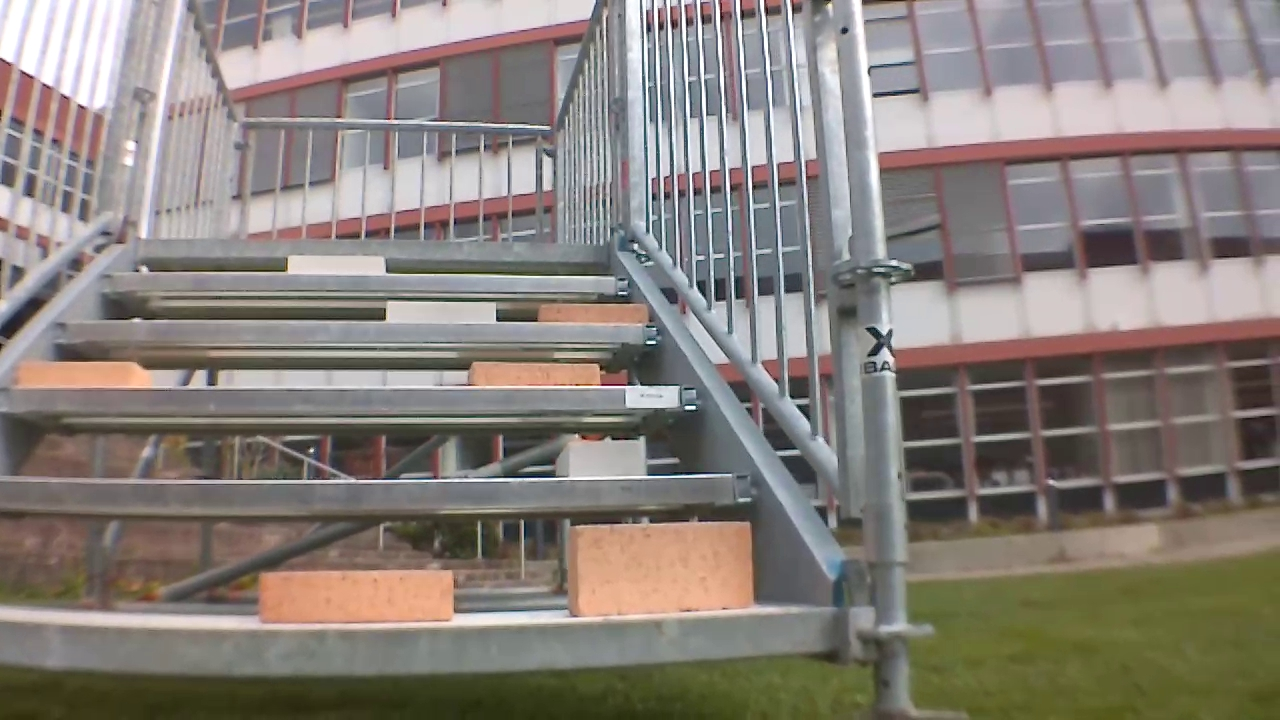brick: (560, 516, 761, 619), (250, 565, 460, 624), (551, 432, 653, 480), (9, 356, 147, 391), (467, 360, 609, 387), (526, 304, 657, 329), (284, 249, 390, 279), (375, 303, 503, 324)
edge: (0, 601, 851, 665), (0, 473, 759, 511), (0, 382, 711, 421), (50, 312, 666, 346), (111, 272, 636, 294), (126, 243, 612, 263)
stairs: (0, 0, 914, 714)
steps: (0, 243, 853, 678)
